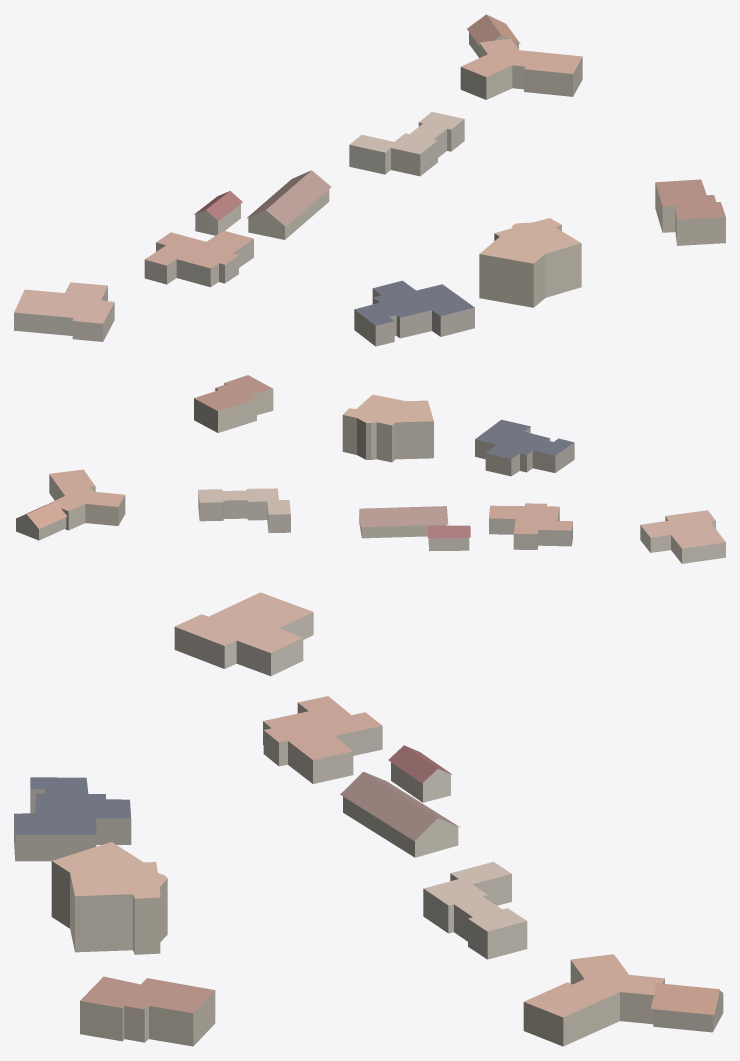
The picture shows the model from 3 angles, top to bottom: view 1: azimuth 30°, elevation 25°; view 2: azimuth 150°, elevation 25°; view 3: azimuth 270°, elevation 25°; orthographic projection. The views are drawn at different scales.
Parts seen in each view (by area): view 1: tuile; view 2: tuile; view 3: tuile.
Part boxes in pixels (bbox=[...]): tuile: bbox=[14, 14, 725, 346]; tuile: bbox=[16, 375, 725, 563]; tuile: bbox=[14, 592, 723, 1046].
Bounding box in the file's own units: 165 × 11.13 × 117.
